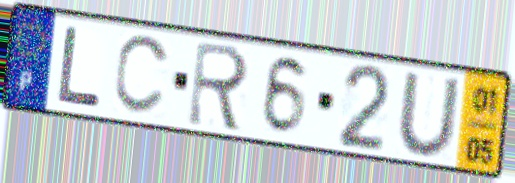2: (337, 62, 393, 155)
6: (259, 54, 310, 138)
C: (111, 34, 174, 119)
L: (56, 23, 106, 109)
R: (184, 38, 253, 136)
U: (394, 70, 463, 161)
